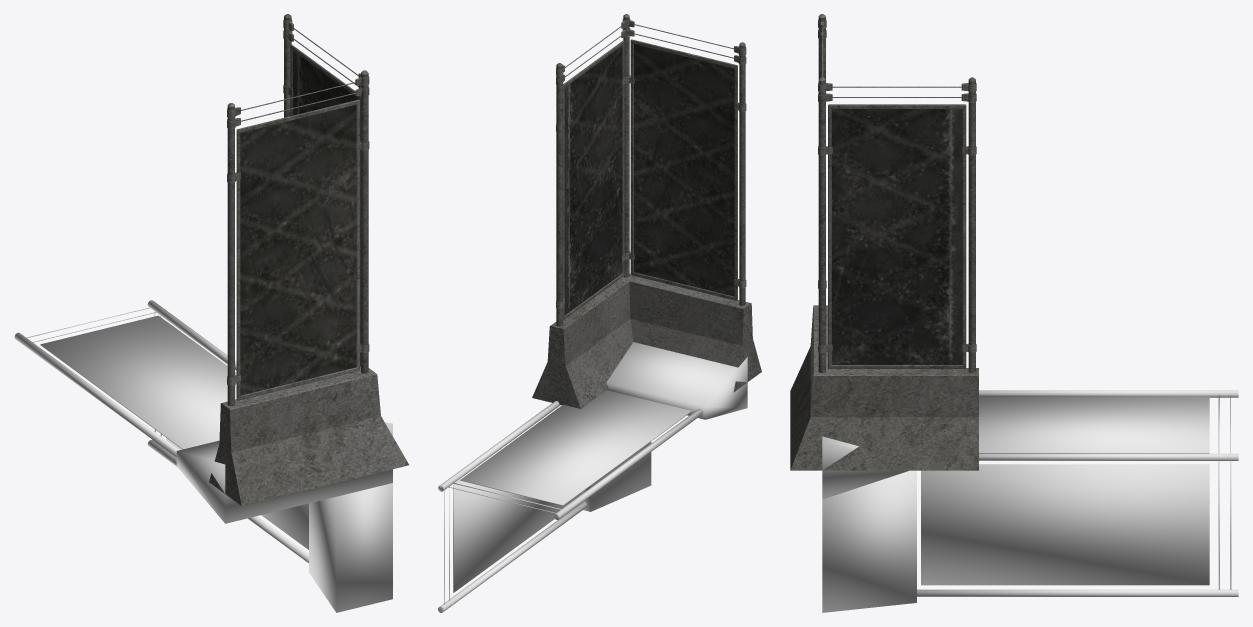
Rendered from SM_MetalFence_Corner.fbx.
3 renders of one model, left to right at view 1: azimuth 30°, elevation 25°; view 2: azimuth 150°, elevation 25°; view 3: azimuth 270°, elevation 25°, orthographic. The views are drawn at different scales.
Parts seen in each view (by area): view 1: SM_MetalFence_Corner, SM_MetalFence_Corner_ConvexHulls; view 2: SM_MetalFence_Corner, SM_MetalFence_Corner_ConvexHulls; view 3: SM_MetalFence_Corner_ConvexHulls, SM_MetalFence_Corner.
Boxes of the visible parts, x1,y1,x2,y2 form: SM_MetalFence_Corner: (209,14,408,505); SM_MetalFence_Corner_ConvexHulls: (14,300,392,612); SM_MetalFence_Corner: (532,14,761,408); SM_MetalFence_Corner_ConvexHulls: (438,342,747,612); SM_MetalFence_Corner_ConvexHulls: (822,390,1238,612); SM_MetalFence_Corner: (790,14,978,470).
Bounding box in the file's own units: 1.81 × 5.5 × 4.29.
